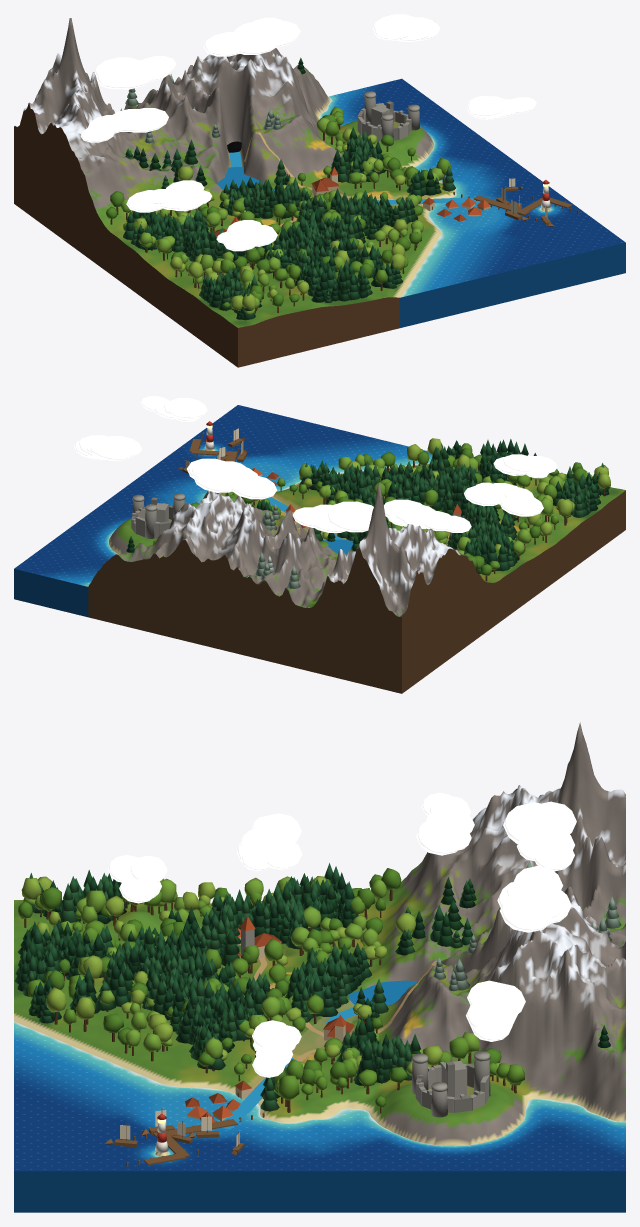
Rendered from blender-realista.glb.
3 views of the same model, one above another, from view 1: azimuth 30°, elevation 25°; view 2: azimuth 150°, elevation 25°; view 3: azimuth 270°, elevation 25° (orthographic). The views are drawn at different scales.
Visible parts, largest first — view 1: Terreno, Borde, Mar, nube.009, nube.018, nube.027, nube, nube.017, nube.031, nube.020, nube.037, nube.042 (+3 smaller); view 2: Borde, Terreno, Mar, nube.018, nube.008, nube.025, nube.039, nube.014, nube.036, nube.001, nube.044, nube.004 (+1 smaller); view 3: Terreno, Mar, Borde, nube.017, nube, nube.009, nube.026, nube.036, nube.008, nube.007, nube.044, Rio (+4 smaller).
Part boxes in pixels (x1=…): Terreno: x1=14, y1=18, x2=550, y2=327; Borde: x1=14, y1=62, x2=625, y2=367; Mar: x1=78, y1=78, x2=625, y2=297; nube.009: x1=106, y1=62, x2=155, y2=89; nube.018: x1=203, y1=32, x2=240, y2=56; nube.027: x1=374, y1=20, x2=413, y2=40; nube: x1=131, y1=108, x2=168, y2=132; nube.017: x1=259, y1=21, x2=300, y2=47; nube.031: x1=467, y1=97, x2=506, y2=116; nube.020: x1=239, y1=31, x2=277, y2=54; nube.037: x1=160, y1=187, x2=197, y2=209; nube.042: x1=224, y1=233, x2=259, y2=251; Borde: x1=14, y1=490, x2=625, y2=693; Terreno: x1=93, y1=449, x2=625, y2=616; Mar: x1=14, y1=405, x2=432, y2=607; nube.018: x1=231, y1=474, x2=277, y2=499; nube.008: x1=327, y1=507, x2=371, y2=532; nube.025: x1=90, y1=438, x2=131, y2=460; nube.039: x1=499, y1=497, x2=543, y2=516; nube.014: x1=193, y1=471, x2=235, y2=492; nube.036: x1=464, y1=485, x2=500, y2=506; nube.001: x1=422, y1=511, x2=454, y2=530; nube.044: x1=502, y1=454, x2=538, y2=472; nube.004: x1=396, y1=503, x2=435, y2=521; Terreno: x1=14, y1=722, x2=625, y2=1156; Mar: x1=14, y1=1021, x2=625, y2=1171; Borde: x1=14, y1=855, x2=625, y2=1212; nube.017: x1=500, y1=891, x2=552, y2=932; nube: x1=416, y1=819, x2=466, y2=855; nube.009: x1=503, y1=803, x2=546, y2=843; nube.026: x1=466, y1=1002, x2=516, y2=1028; nube.036: x1=263, y1=838, x2=302, y2=870; nube.008: x1=539, y1=801, x2=576, y2=834; nube.007: x1=534, y1=840, x2=574, y2=871; nube.044: x1=129, y1=855, x2=167, y2=882; Rio: x1=222, y1=1007, x2=356, y2=1129.
Bounding box in the file's own units: 124 × 55.78 × 120.
Materials: 36 (1 with a texture image).
